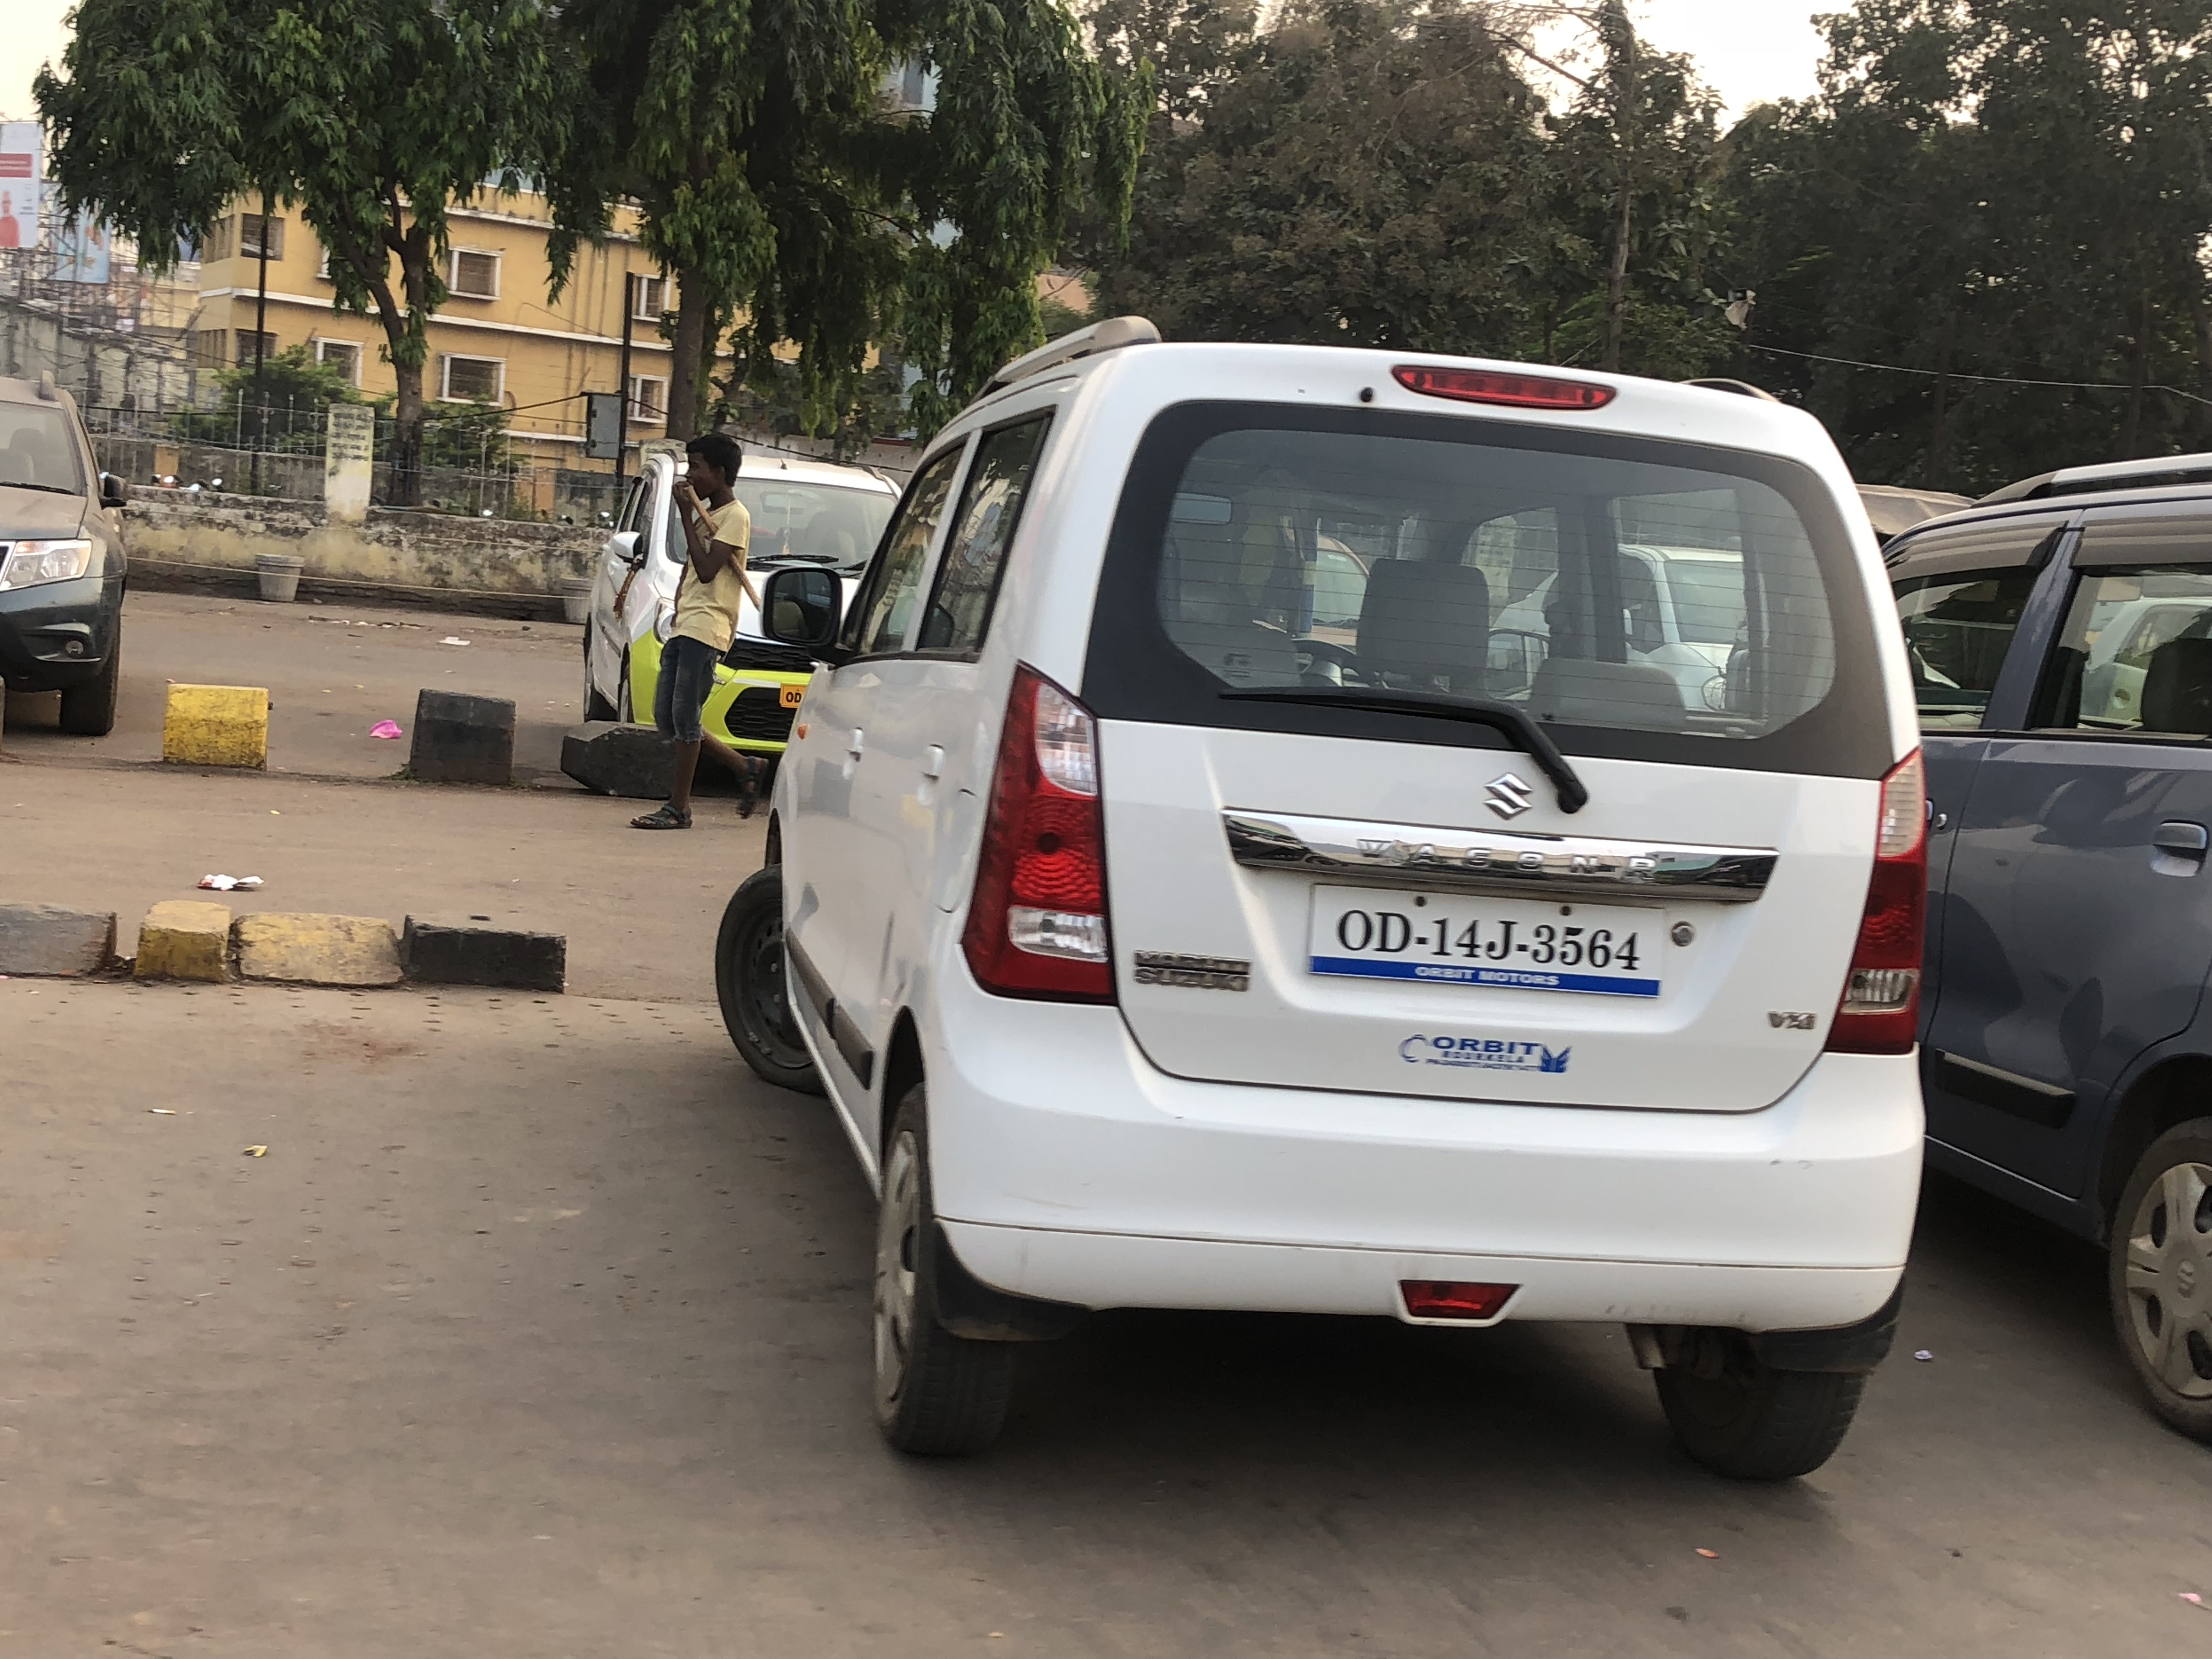licenseplate: (1286, 867, 1679, 1011)
